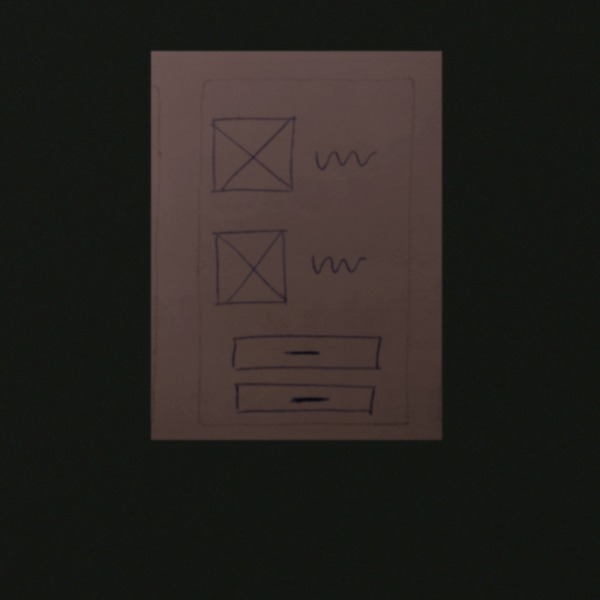button: (225, 331, 388, 376), (230, 380, 383, 418)
image: (207, 110, 301, 200), (206, 225, 293, 309)
text: (310, 142, 379, 175), (309, 249, 372, 279)
